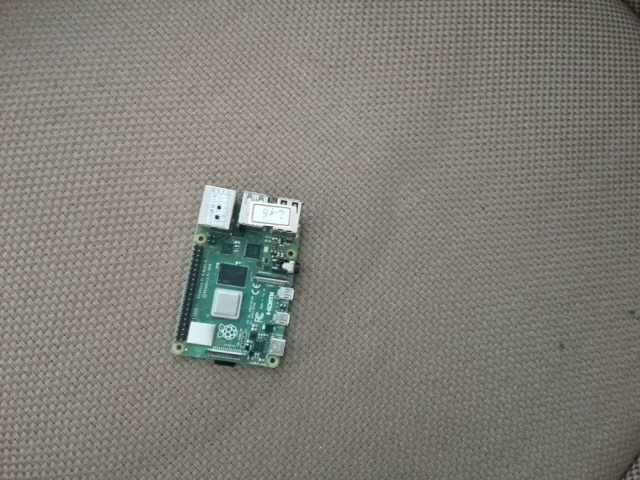Pi4: (168, 180, 305, 374)
